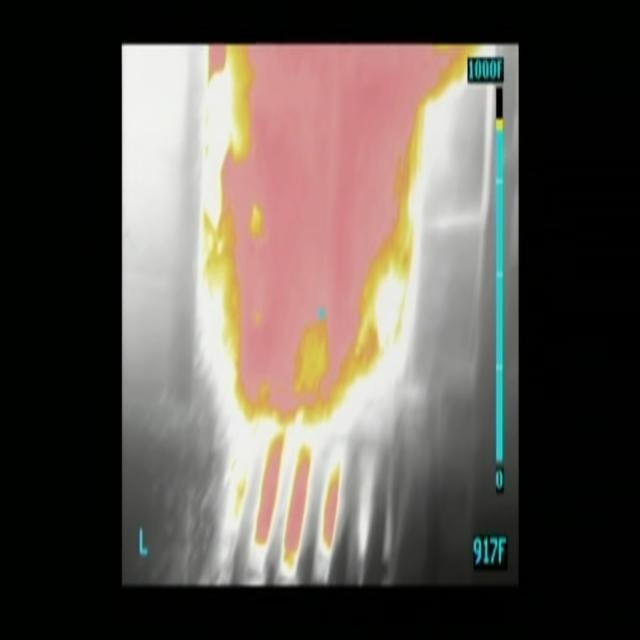fire: (208, 45, 467, 424)
